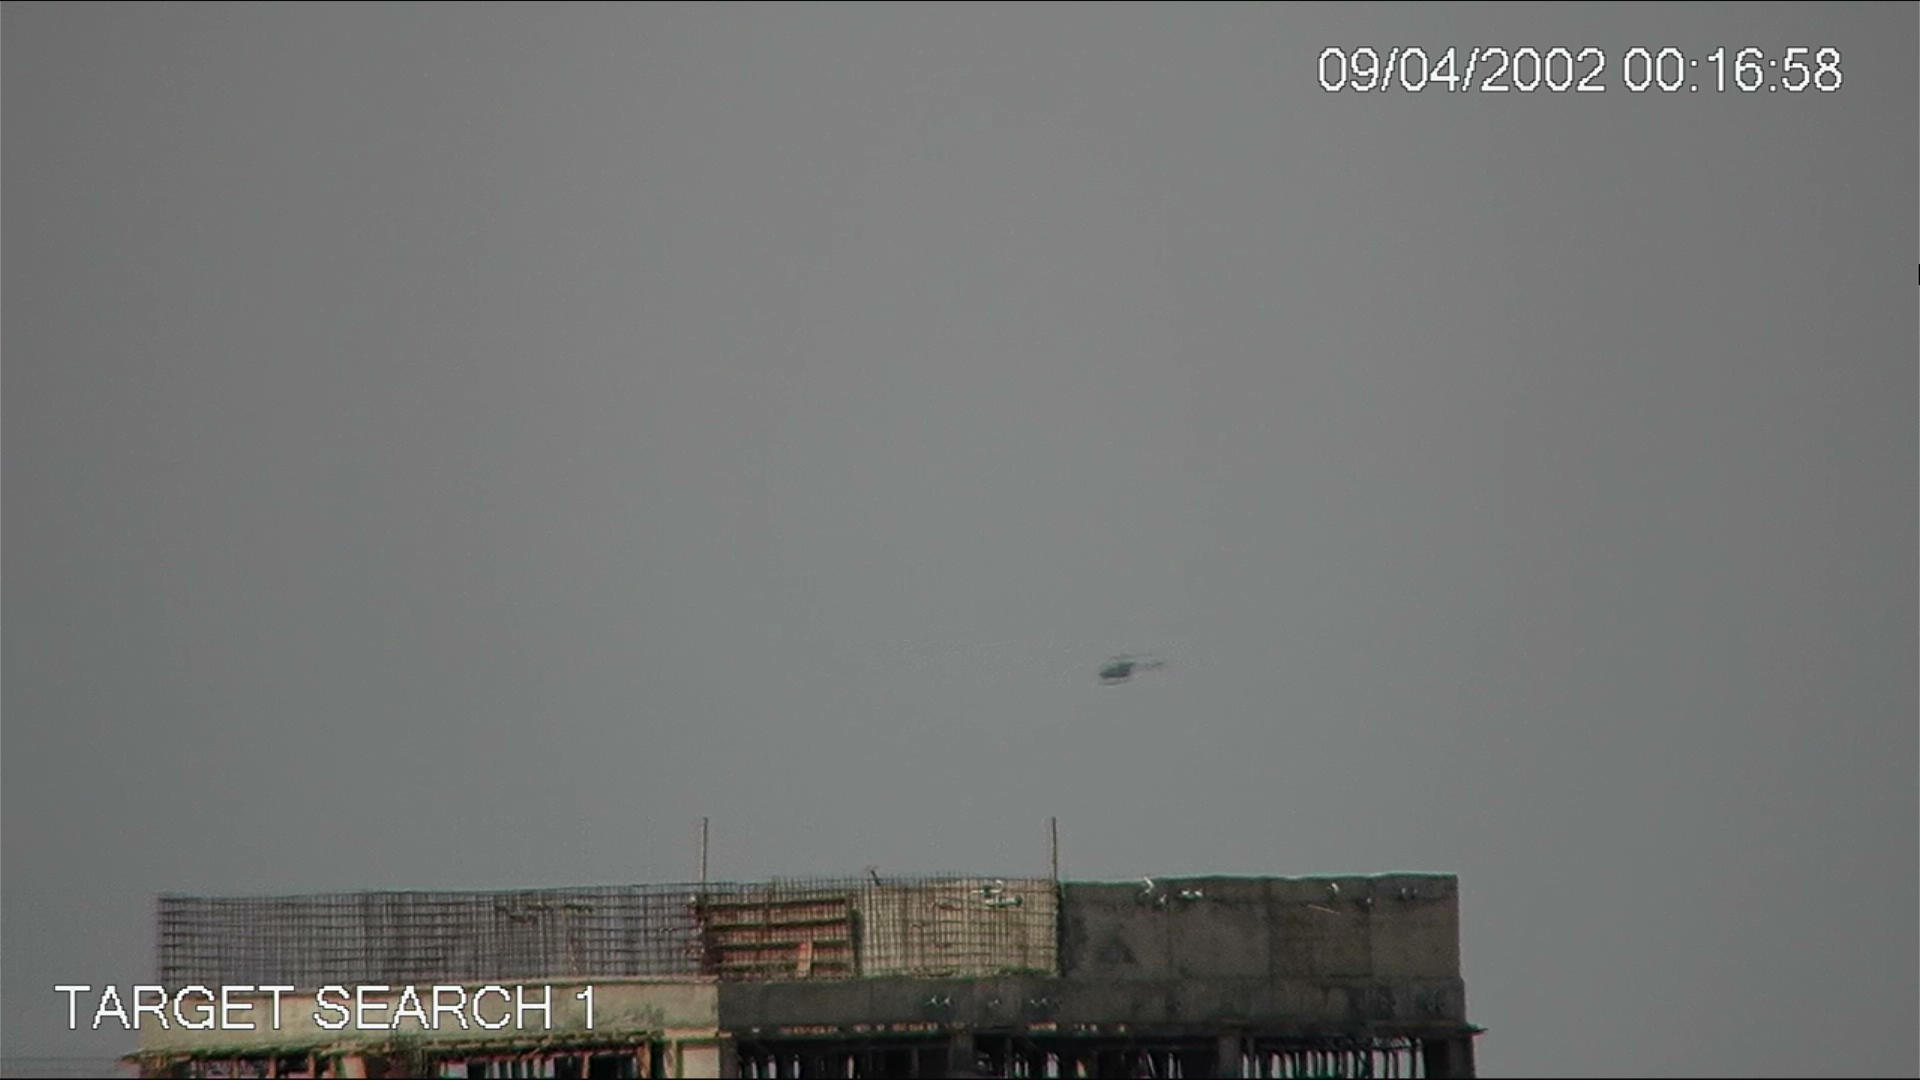SU_30: (1096, 658, 1135, 687)
